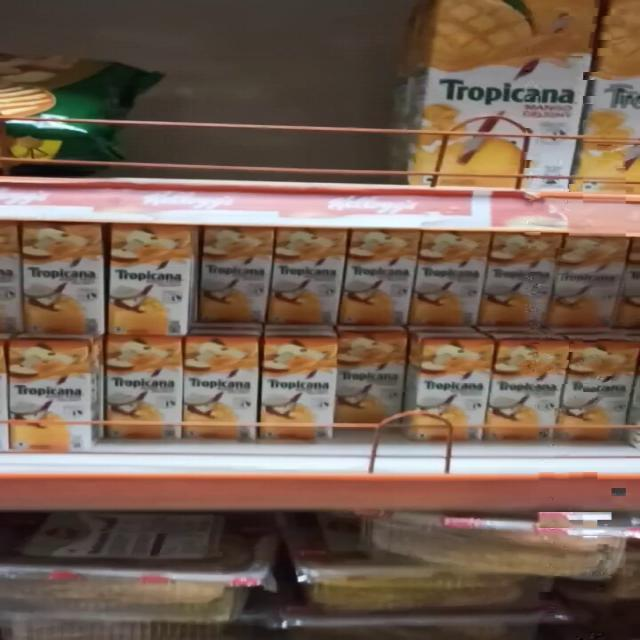Tropicana: (12, 228, 104, 339), (6, 343, 92, 457), (112, 227, 196, 342), (411, 333, 489, 437), (414, 229, 491, 333), (186, 334, 258, 440), (558, 345, 630, 451), (263, 335, 333, 441), (330, 336, 410, 426), (494, 337, 566, 436), (110, 343, 180, 443), (348, 226, 412, 331), (554, 232, 624, 327), (266, 229, 336, 320), (197, 226, 258, 325), (489, 234, 551, 329)
